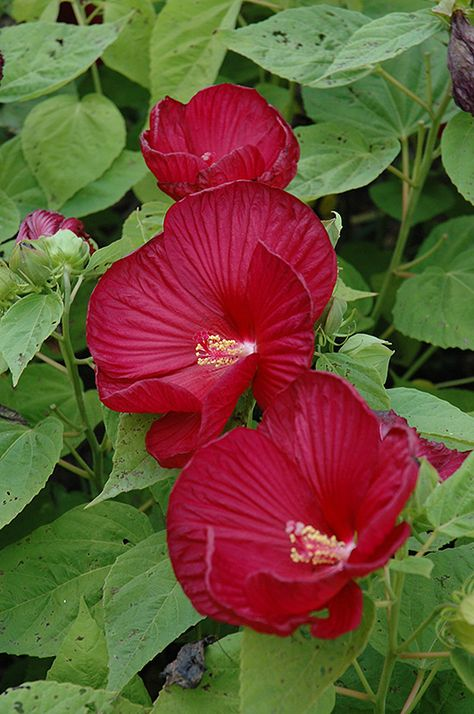Hibiscus: (166, 368, 430, 654), (102, 193, 362, 450), (136, 77, 323, 223), (16, 211, 87, 311)
